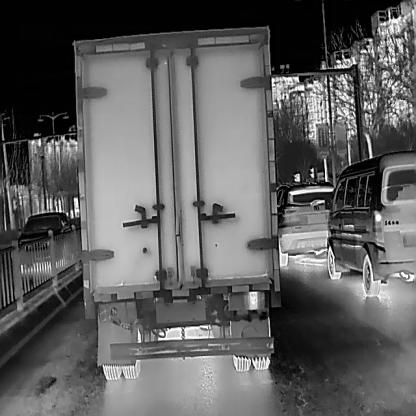car: (326, 149, 415, 293), (276, 181, 332, 264), (18, 210, 74, 268)
truck: (67, 24, 280, 380)
